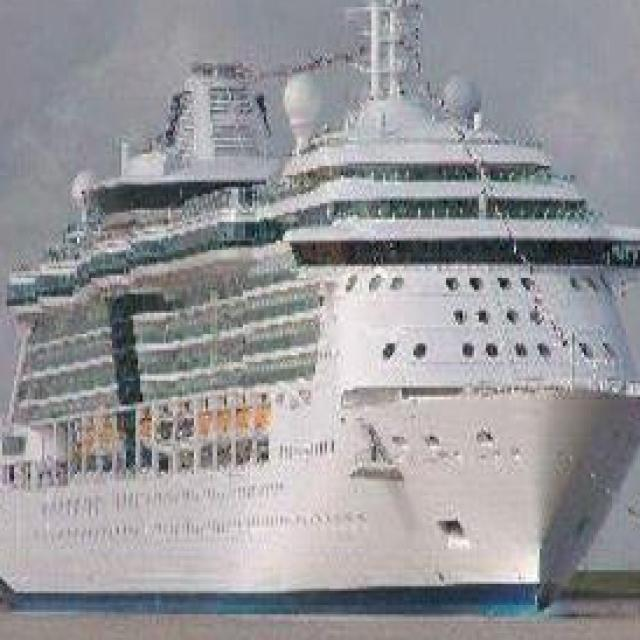passenger ship: (0, 0, 640, 610)
